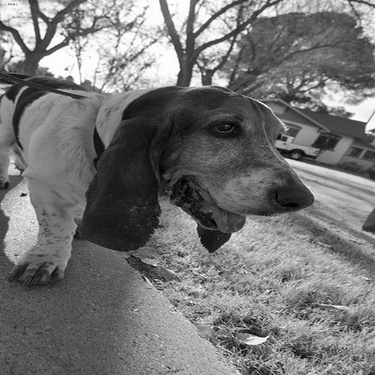dog: (1, 67, 319, 295)
